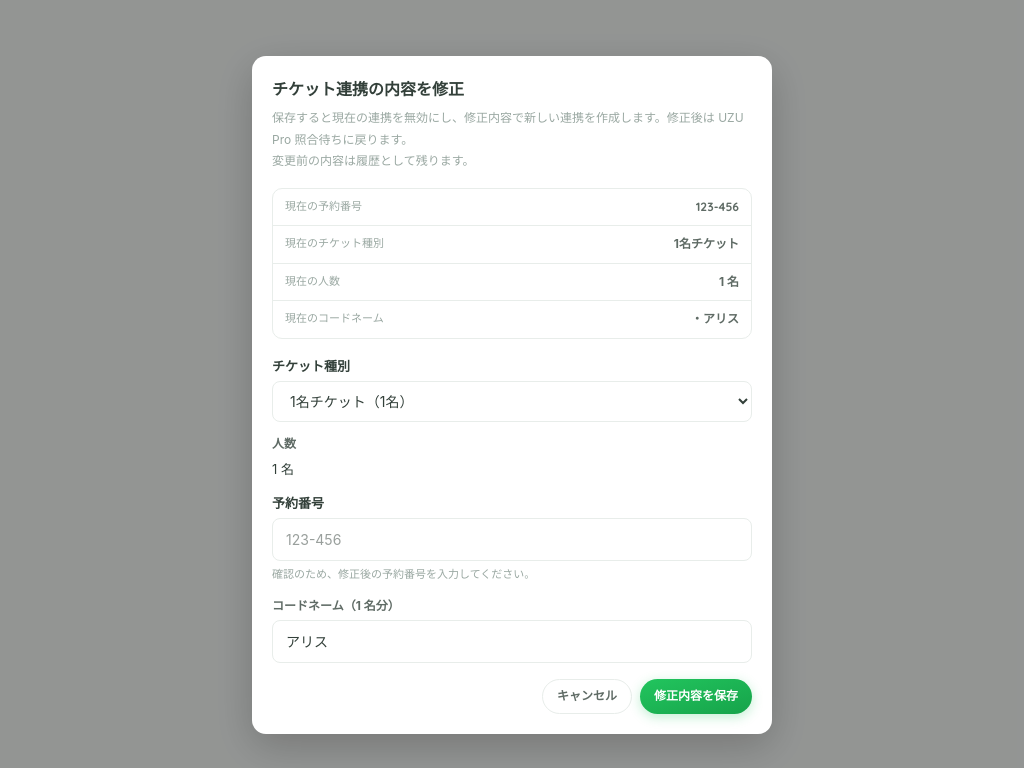
送信 › サーバーのエラーメッセージをそのまま表示する
The width and height of the screenshot is (1024, 768).
Click the button "修正内容を保存".
click(696, 696)  # box [640,679,752,714]
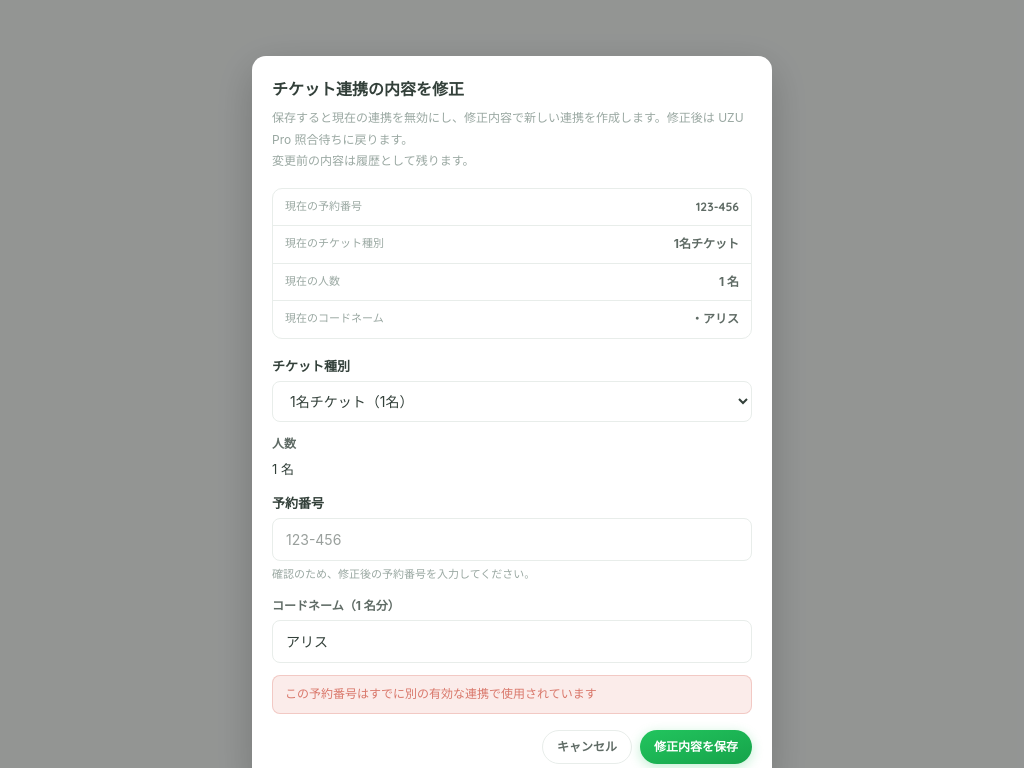
Check: the message shows "すでに別の有効な連携で使用されています", box [285,686,597,701]
